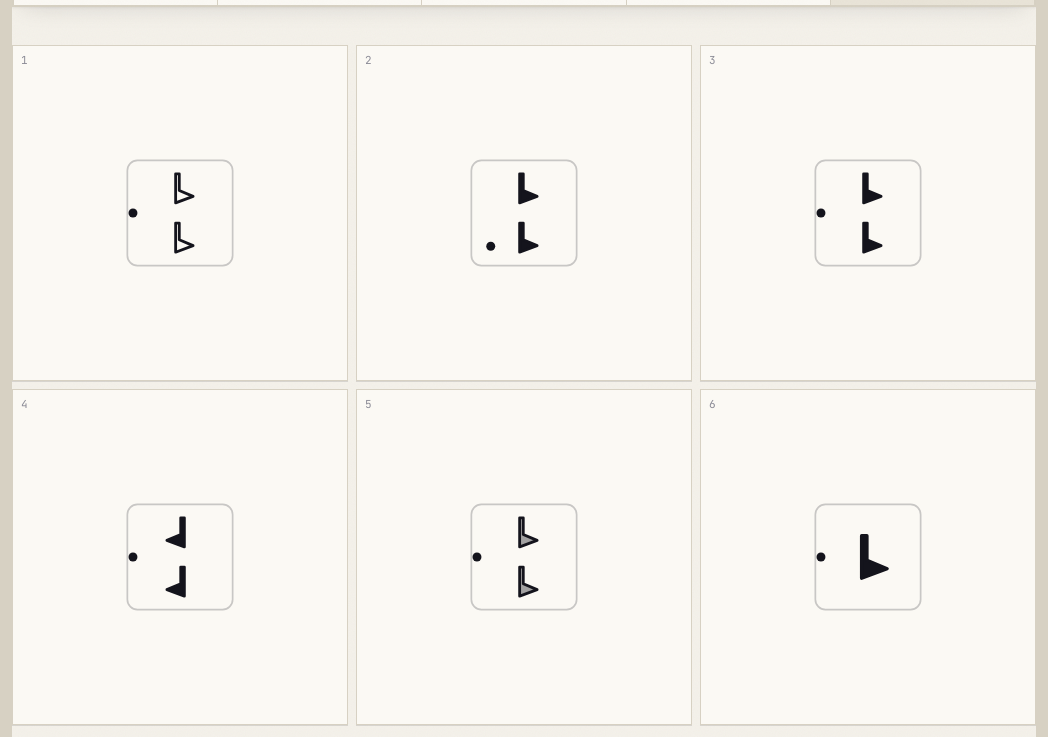
figurenreihen play surface › reveals the right figure after a wrong pick
(page scrolled)
Click the button with class "choice" showing "4".
click(180, 557)  # box [12,389,348,725]
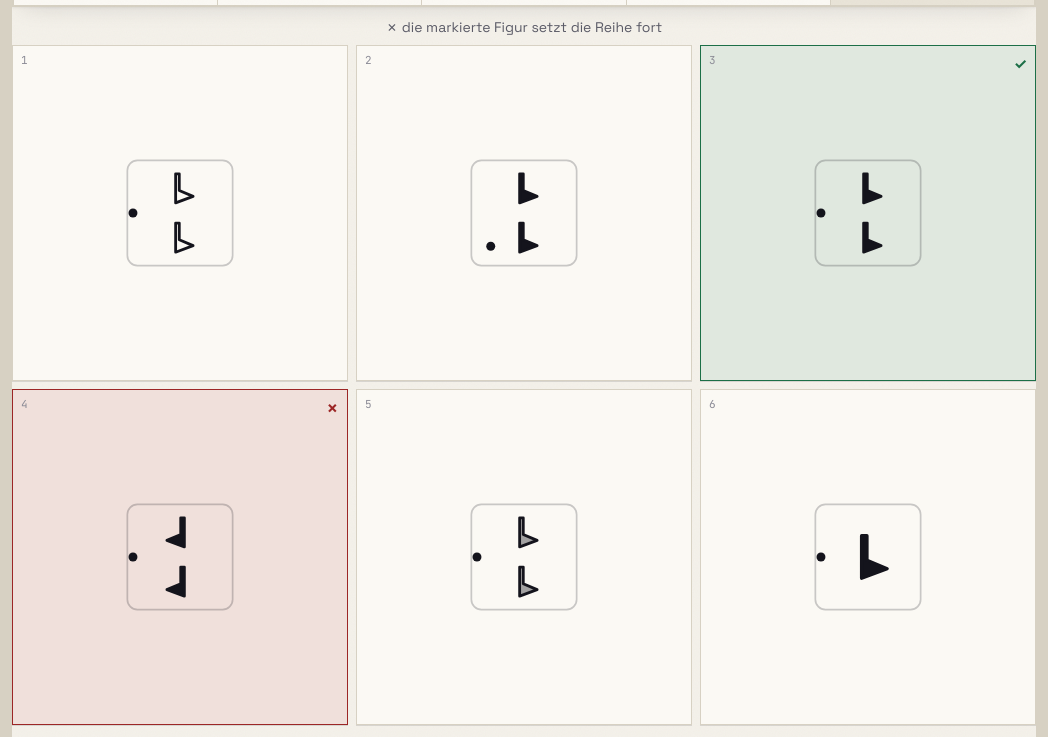
Expected: the number of buttons with class "is-correct" is 1, [700,45,1036,381]
Result: the message "✗ die markierte Figur setzt die Reihe fort" is shown at [386,18,662,36]
